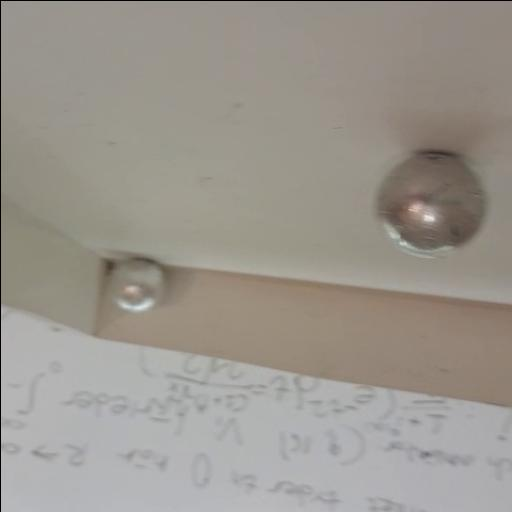alive: (370, 148, 490, 260), (107, 258, 166, 314)
